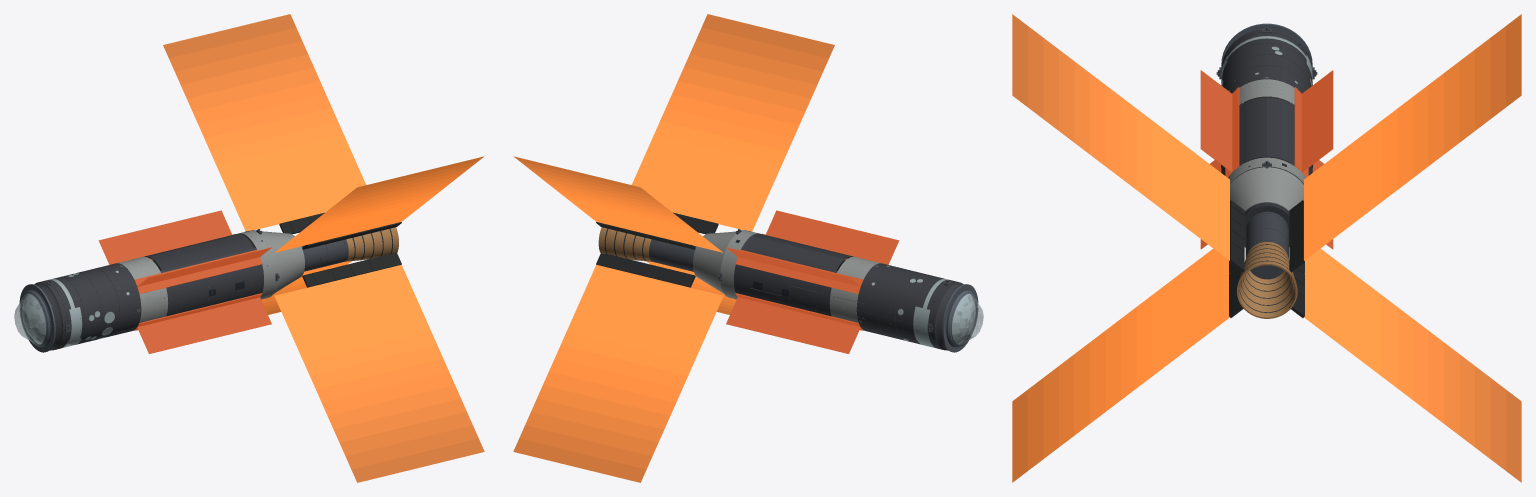
Rendered from wayfarer_exterior_B_medical_88ce19fc_torch_stowed.glb.
The picture shows the model from 3 angles, left to right: view 1: azimuth 30°, elevation 25°; view 2: azimuth 150°, elevation 25°; view 3: azimuth 270°, elevation 25°; orthographic projection. The views are drawn at different scales.
Parts seen in each view (by area): view 1: dry:armor, dry:skin_midship, dry:hotfin_220:pleat_13, dry:hotfin_40:pleat_04, dry:hotfin_220:pleat_09, dry:hotfin_40:pleat_02, dry:hotfin_220:pleat_04, dry:hotfin_220:pleat_07, dry:hotfin_220:pleat_11, dry:hotfin_40:pleat_03, dry:hotfin_40:pleat_05, dry:hotfin_40:pleat_08 (+48 smaller); view 2: dry:armor, dry:skin_midship, dry:hotfin_320:pleat_13, dry:hotfin_140:pleat_04, dry:hotfin_320:pleat_09, dry:hotfin_140:pleat_02, dry:hotfin_320:pleat_04, dry:hotfin_320:pleat_07, dry:hotfin_320:pleat_11, dry:hotfin_140:pleat_03, dry:hotfin_140:pleat_05, dry:hotfin_140:pleat_08 (+48 smaller); view 3: dry:armor, dry:nozzle, dry:thrust_cone, dry:reactor, dry:door_port, dry:door_starboard, dry:hotfin_220:pleat_03, dry:hotfin_320:pleat_03, dry:hotfin_40:pleat_05, dry:hotfin_40:pleat_07, dry:hotfin_140:pleat_05, dry:hotfin_140:pleat_07 (+63 smaller).
Part boxes in pixels (bbox=[...]): dry:armor: bbox=[21, 263, 141, 350]; dry:skin_midship: bbox=[160, 247, 263, 316]; dry:hotfin_220:pleat_13: bbox=[351, 438, 484, 482]; dry:hotfin_40:pleat_04: bbox=[216, 134, 349, 178]; dry:hotfin_220:pleat_09: bbox=[327, 385, 460, 429]; dry:hotfin_40:pleat_02: bbox=[228, 161, 361, 205]; dry:hotfin_220:pleat_04: bbox=[298, 318, 431, 362]; dry:hotfin_220:pleat_07: bbox=[316, 358, 448, 402]; dry:hotfin_220:pleat_11: bbox=[339, 412, 472, 455]; dry:hotfin_40:pleat_03: bbox=[222, 147, 355, 191]; dry:hotfin_40:pleat_05: bbox=[210, 121, 343, 165]; dry:hotfin_40:pleat_08: bbox=[193, 81, 325, 125]; dry:armor: bbox=[856, 263, 976, 350]; dry:skin_midship: bbox=[734, 247, 837, 316]; dry:hotfin_320:pleat_13: bbox=[513, 438, 646, 482]; dry:hotfin_140:pleat_04: bbox=[648, 134, 781, 178]; dry:hotfin_320:pleat_09: bbox=[537, 385, 670, 429]; dry:hotfin_140:pleat_02: bbox=[636, 161, 769, 205]; dry:hotfin_320:pleat_04: bbox=[566, 318, 699, 362]; dry:hotfin_320:pleat_07: bbox=[549, 358, 681, 402]; dry:hotfin_320:pleat_11: bbox=[525, 412, 658, 455]; dry:hotfin_140:pleat_03: bbox=[642, 147, 775, 191]; dry:hotfin_140:pleat_05: bbox=[654, 121, 787, 165]; dry:hotfin_140:pleat_08: bbox=[672, 81, 804, 125]; dry:armor: bbox=[1221, 29, 1312, 93]; dry:nozzle: bbox=[1237, 242, 1297, 318]; dry:thrust_cone: bbox=[1230, 167, 1303, 247]; dry:reactor: bbox=[1245, 211, 1288, 279]; dry:door_port: bbox=[1242, 97, 1266, 163]; dry:door_starboard: bbox=[1267, 97, 1291, 163]; dry:hotfin_220:pleat_03: bbox=[1167, 271, 1183, 364]; dry:hotfin_320:pleat_03: bbox=[1350, 271, 1366, 364]; dry:hotfin_40:pleat_05: bbox=[1381, 109, 1397, 201]; dry:hotfin_40:pleat_07: bbox=[1412, 85, 1428, 177]; dry:hotfin_140:pleat_05: bbox=[1136, 109, 1152, 201]; dry:hotfin_140:pleat_07: bbox=[1105, 85, 1121, 177].
Size of the model in its own units: 54.5 by 42.11 by 50.18.
